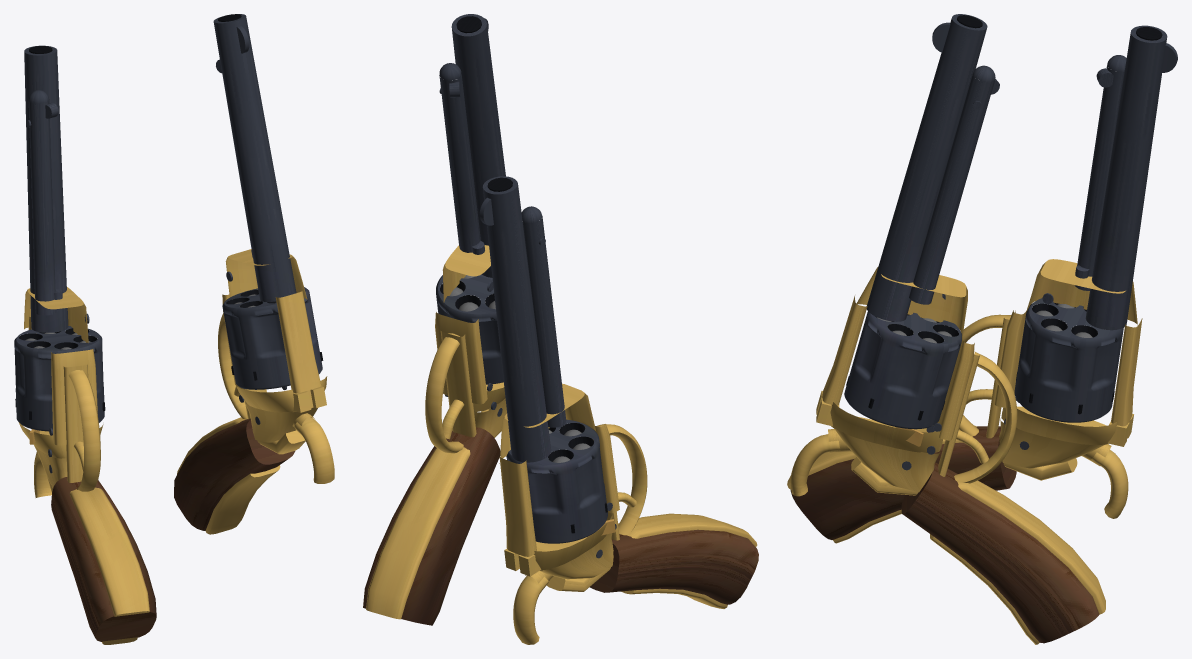
The model's file is gun.gold-medal.glb.
3 renders of one model, left to right at view 1: azimuth 30°, elevation 25°; view 2: azimuth 150°, elevation 25°; view 3: azimuth 270°, elevation 25°, orthographic. The views are drawn at different scales.
Visible parts, largest first — view 1: revolver (×2); view 2: revolver (×2); view 3: revolver (×2).
Boxes of the visible parts, bbox=[...] form: revolver (×2): bbox=[14, 14, 334, 644]; revolver (×2): bbox=[363, 14, 758, 644]; revolver (×2): bbox=[787, 14, 1177, 644].
Bounding box in the file's own units: 0.1616 × 0.3355 × 0.1944.
Materials: 1 (1 with a texture image).
